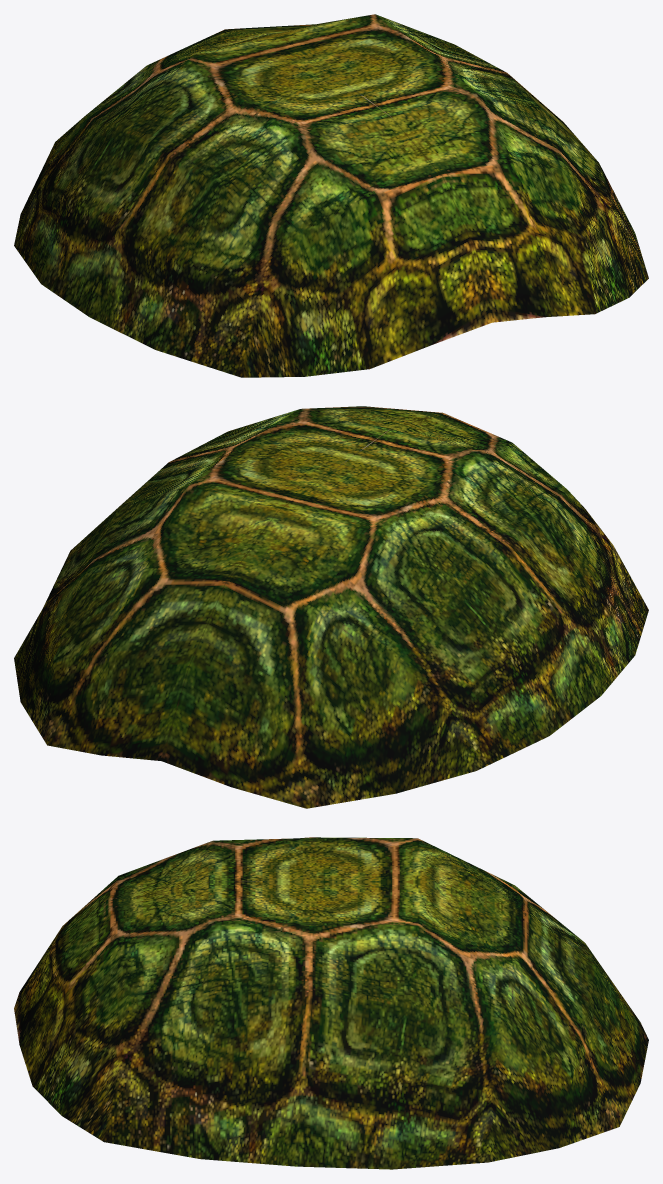
File: TurtleCollision.obj
3 views of the same model, one above another, from view 1: azimuth 30°, elevation 25°; view 2: azimuth 150°, elevation 25°; view 3: azimuth 270°, elevation 25° (orthographic). The views are drawn at different scales.
Bounding box in the file's own units: 30 × 10.75 × 33.57.
1 material, 1 textured.
